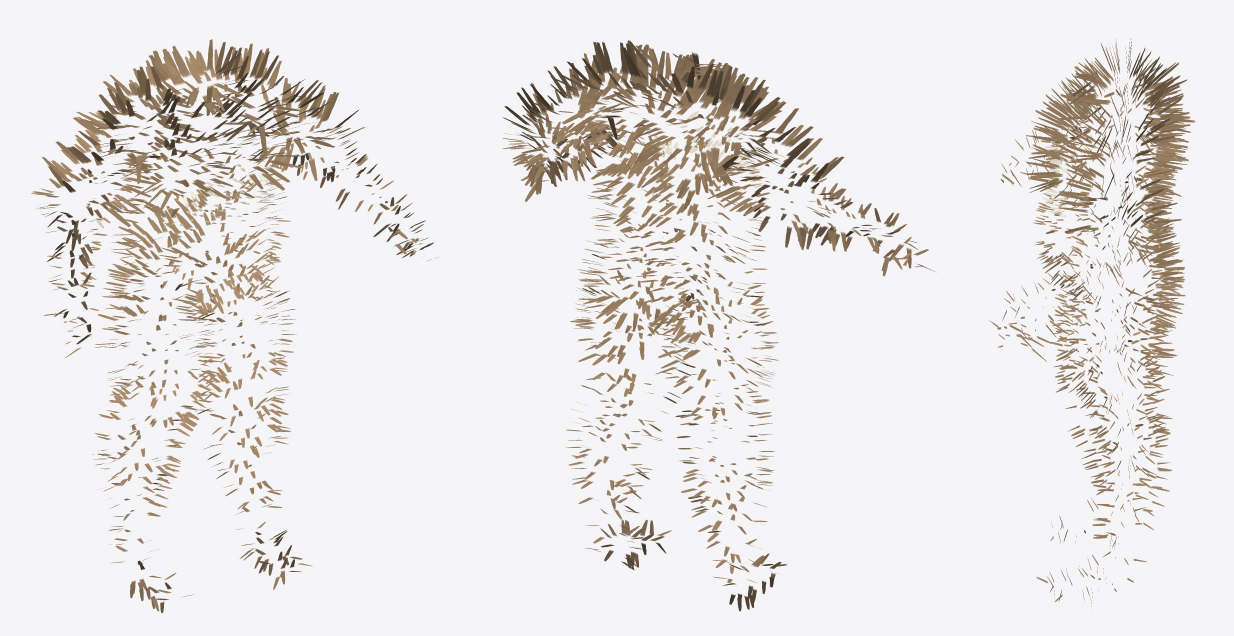
Rendered from fur_cards_sen_lod0.glb.
3 views of the same model, side by side, from view 1: azimuth 30°, elevation 25°; view 2: azimuth 150°, elevation 25°; view 3: azimuth 270°, elevation 25° (orthographic). The views are drawn at different scales.
Parts seen in each view (by area): view 1: FurCards; view 2: FurCards; view 3: FurCards.
Part boxes in pixels (x1,y1,x2,y2): FurCards: [31, 39, 438, 612]; FurCards: [502, 40, 934, 611]; FurCards: [989, 39, 1195, 606].
Size of the model in its own units: 1.23 by 1.62 by 0.643.
Materials: 1 (1 with a texture image).
